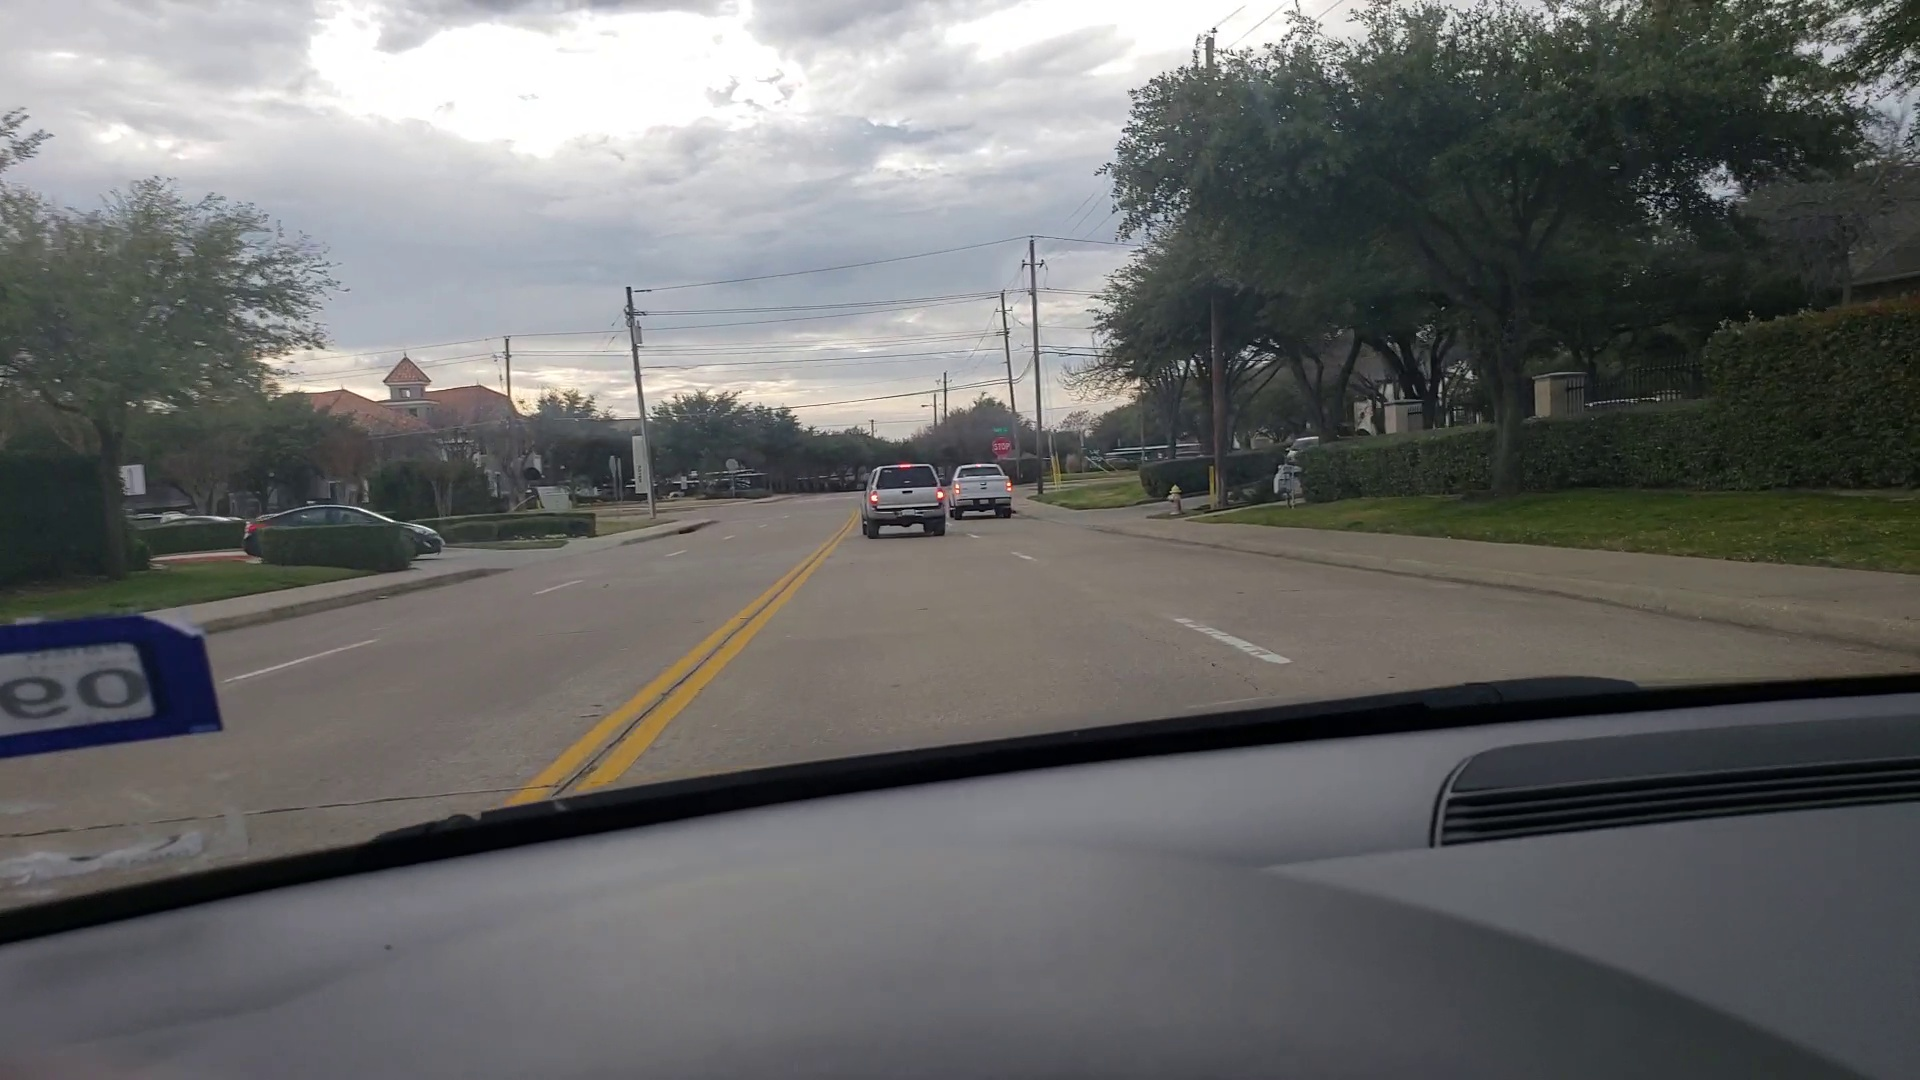car: (247, 498, 447, 564)
stop sign: (992, 436, 1015, 458)
truck: (858, 469, 952, 535), (952, 462, 1015, 517)
